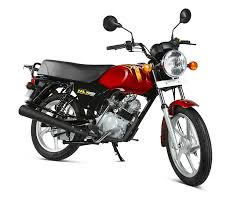motorcycle: (18, 9, 213, 185)
